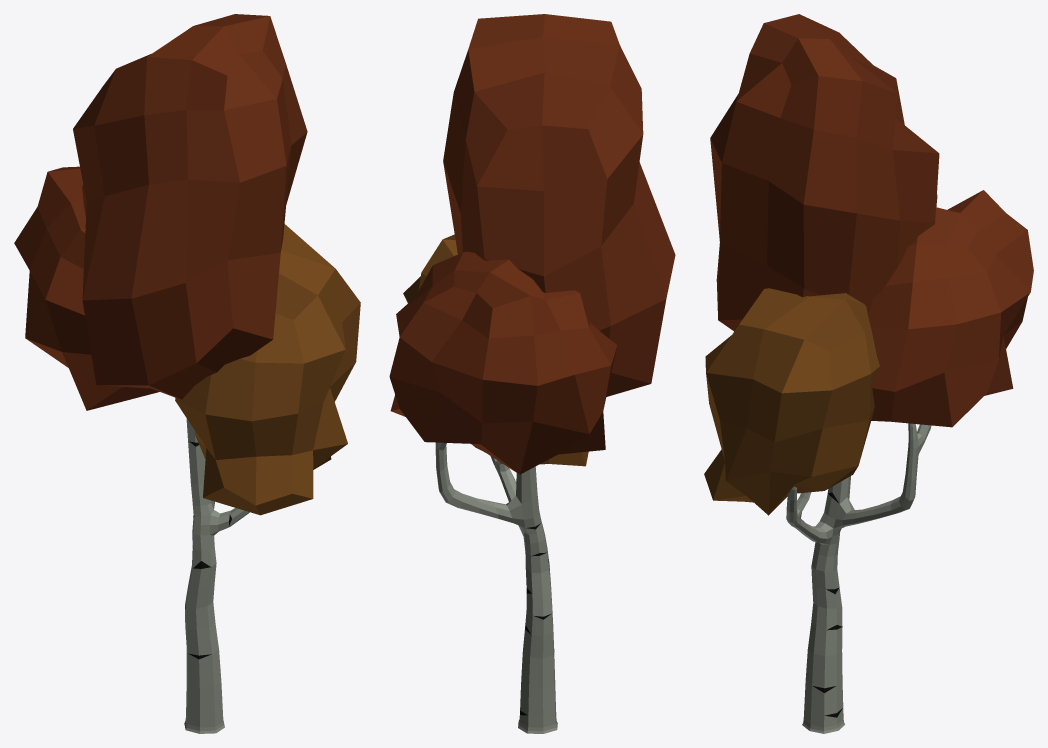
Rendered from BirchTree_Autumn_3.obj.
The picture shows the model from 3 angles, left to right: view 1: azimuth 30°, elevation 25°; view 2: azimuth 150°, elevation 25°; view 3: azimuth 270°, elevation 25°; orthographic projection. The views are drawn at different scales.
Visible parts, largest first — view 1: BirchTree_Autumn_3_Cube.082; view 2: BirchTree_Autumn_3_Cube.082; view 3: BirchTree_Autumn_3_Cube.082.
Boxes of the visible parts, x1,y1,x2,y2 form: BirchTree_Autumn_3_Cube.082: [14, 14, 360, 733]; BirchTree_Autumn_3_Cube.082: [389, 14, 675, 733]; BirchTree_Autumn_3_Cube.082: [704, 14, 1033, 733].
Size of the model in its own units: 1.57 by 4.09 by 1.77.
